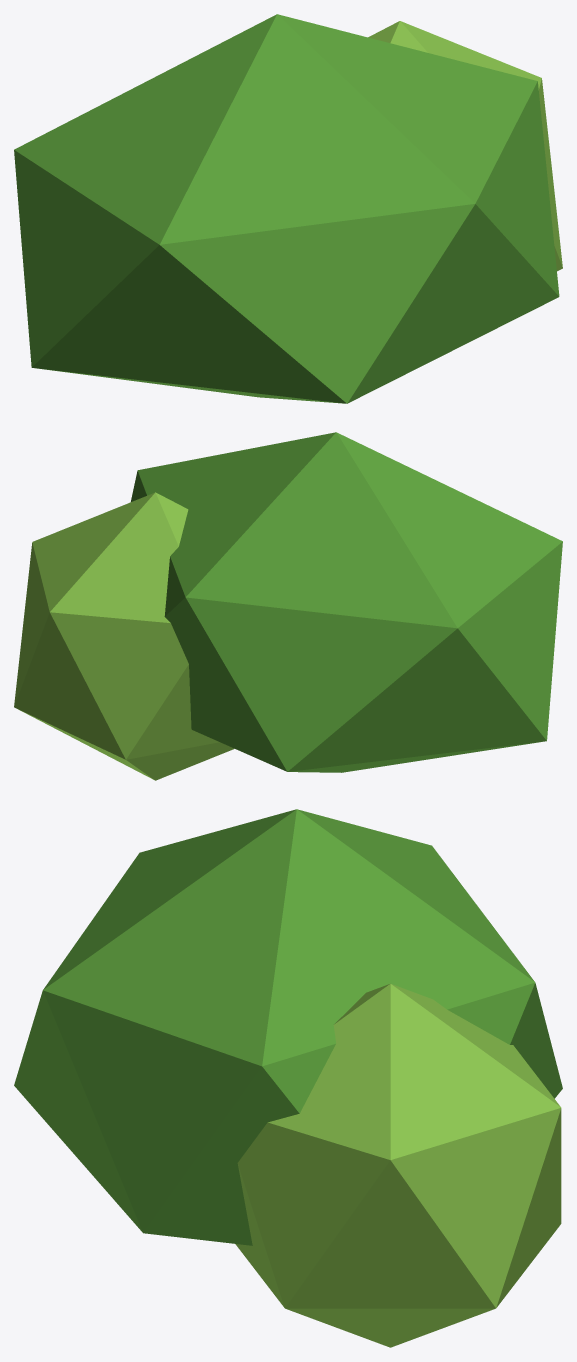
File: laurel_bush.glb
3 views of the same model, one above another, from view 1: azimuth 30°, elevation 25°; view 2: azimuth 150°, elevation 25°; view 3: azimuth 270°, elevation 25° (orthographic). The views are drawn at different scales.
Parts seen in each view (by area): view 1: laurel_bush; view 2: laurel_bush; view 3: laurel_bush.
Boxes of the visible parts, x1=… form: laurel_bush: x1=14, y1=14, x2=562, y2=403; laurel_bush: x1=14, y1=432, x2=562, y2=780; laurel_bush: x1=14, y1=809, x2=562, y2=1347.
Size of the model in its own units: 1.39 by 0.9887 by 1.09.
